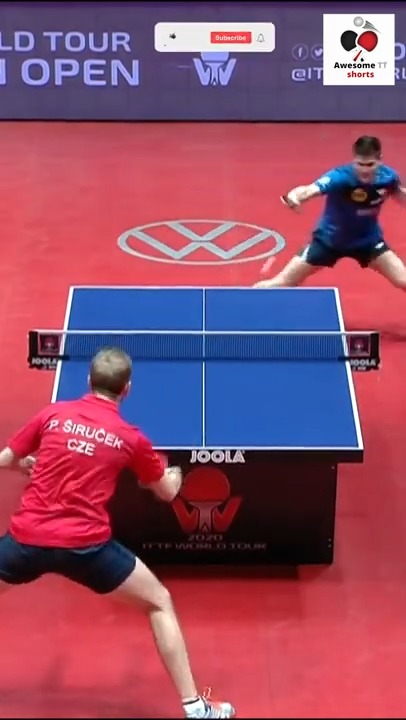Ball: (262, 253, 277, 273)
